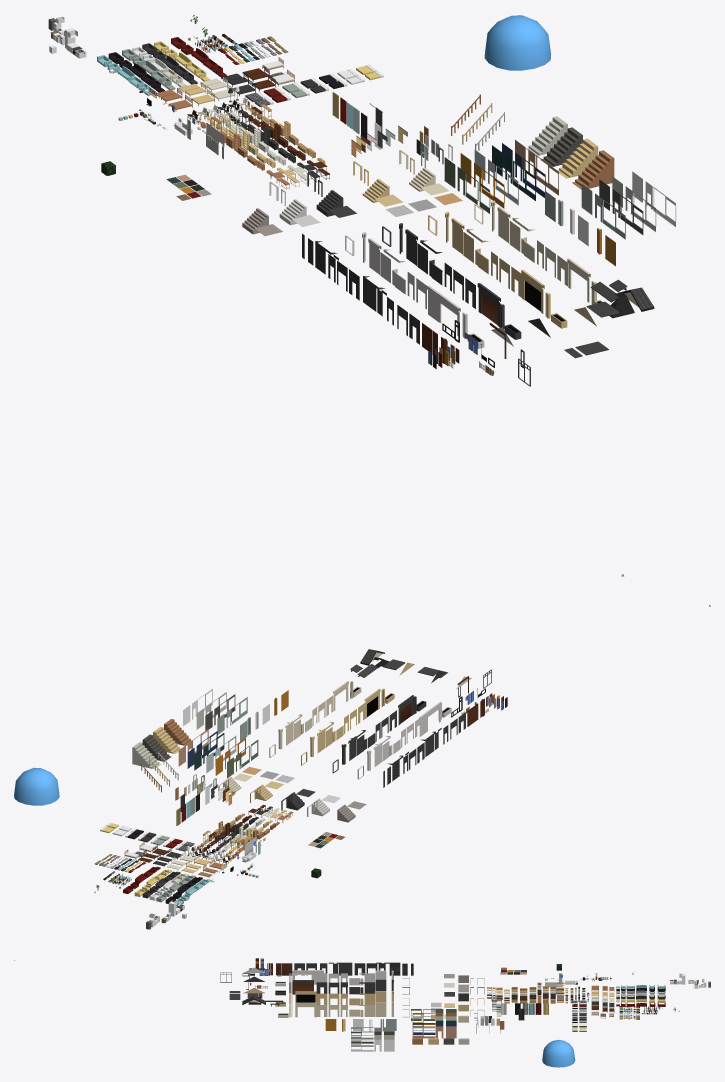
The model's file is contemporary_house.fbx.
3 renders of one model, top to bottom at view 1: azimuth 30°, elevation 25°; view 2: azimuth 150°, elevation 25°; view 3: azimuth 270°, elevation 25°, orthographic. The views are drawn at different scales.
Parts seen in each view (by area): view 1: skybox, rose wood tall stairs, pine tall stairs; view 2: skybox; view 3: skybox.
Boxes of the visible parts, left/top/right/bottom form: skybox: left=484, top=15, right=550, bottom=70; rose wood tall stairs: left=572, top=150, right=614, bottom=189; pine tall stairs: left=557, top=138, right=598, bottom=178; skybox: left=14, top=767, right=59, bottom=805; skybox: left=542, top=1039, right=575, bottom=1067.
Bounding box in the file's own units: 10166 × 1160 × 26178.
